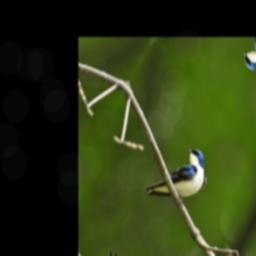Swallow: (143, 128, 217, 230)
